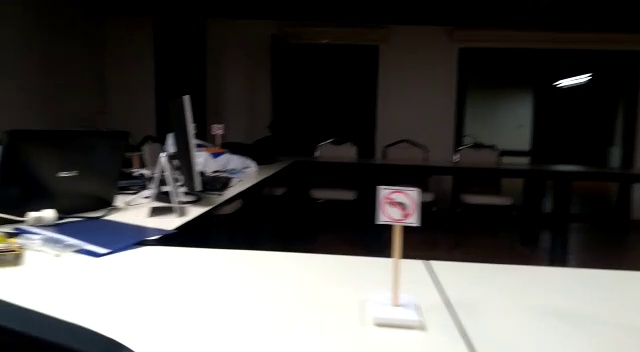sola_donulmez: (376, 188, 418, 225)
